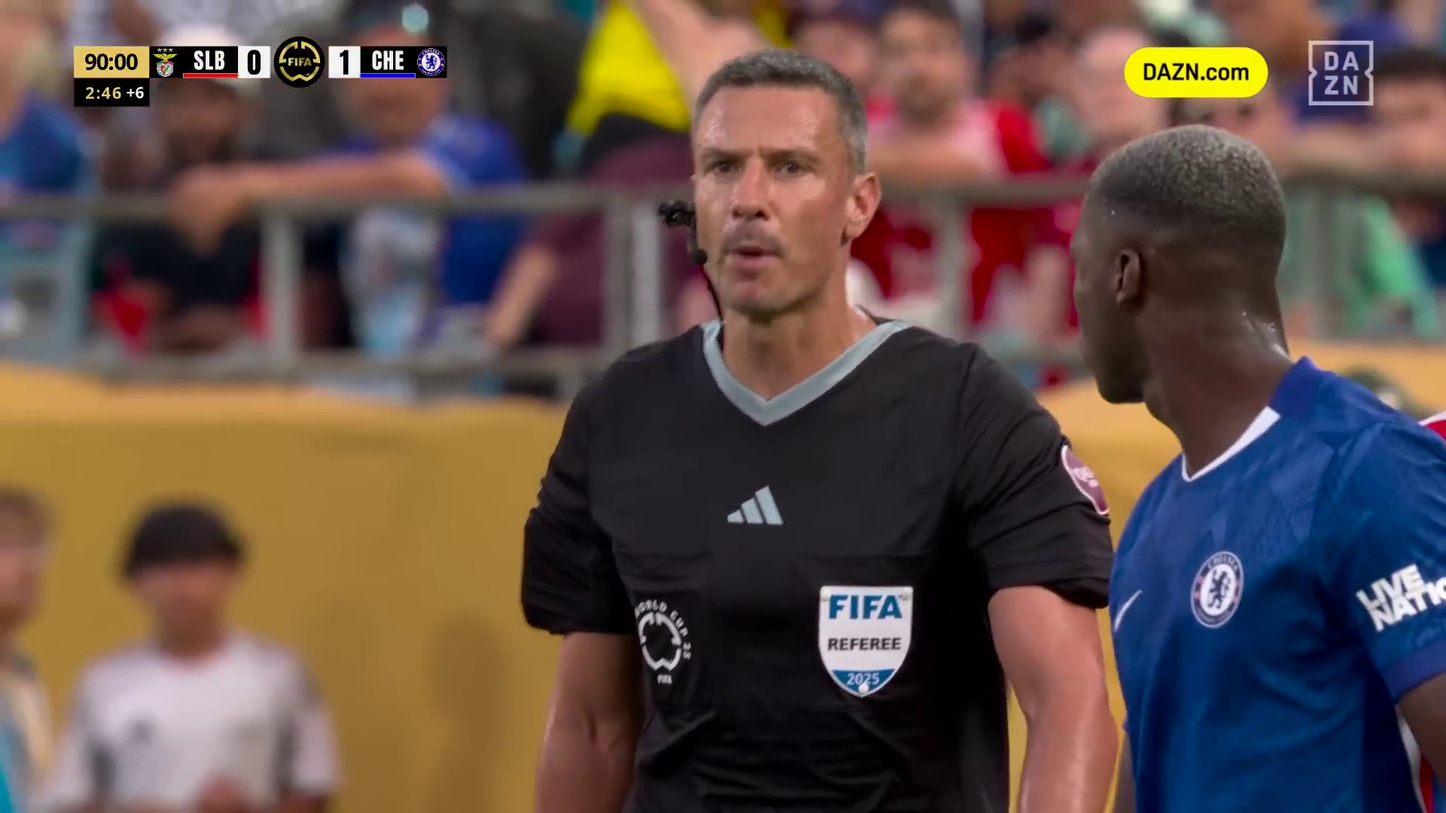player: (1070, 116, 1436, 813)
referee: (513, 49, 1122, 813)
